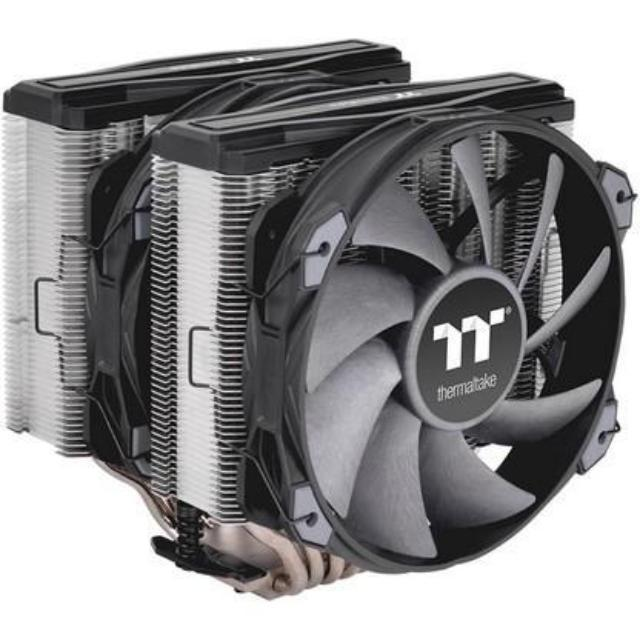CPU_Fan: (3, 46, 629, 591)
